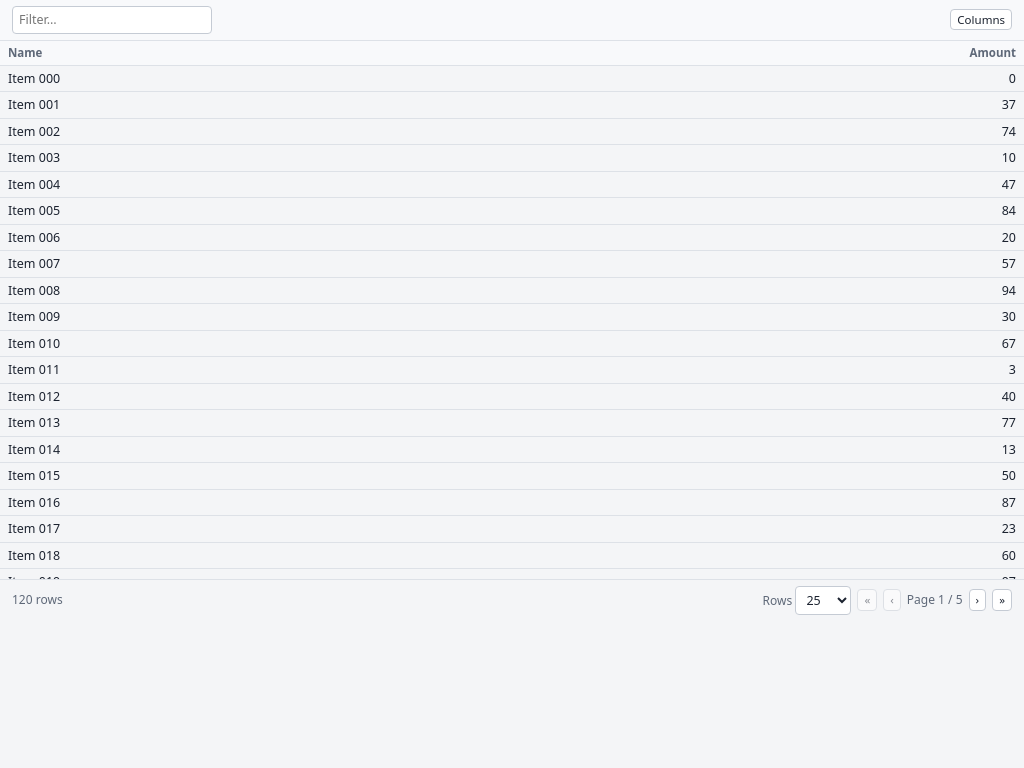
Test: DataTable › paginates, sorts and filters
The image size is (1024, 768).
Check: the text "120 rows" is shown, box [12,592,63,608]
Check: the text "Page 1 / 5" is shown, box [907,592,962,608]
Click the column heading "Amount": (779, 53) [534,40,1023,65]
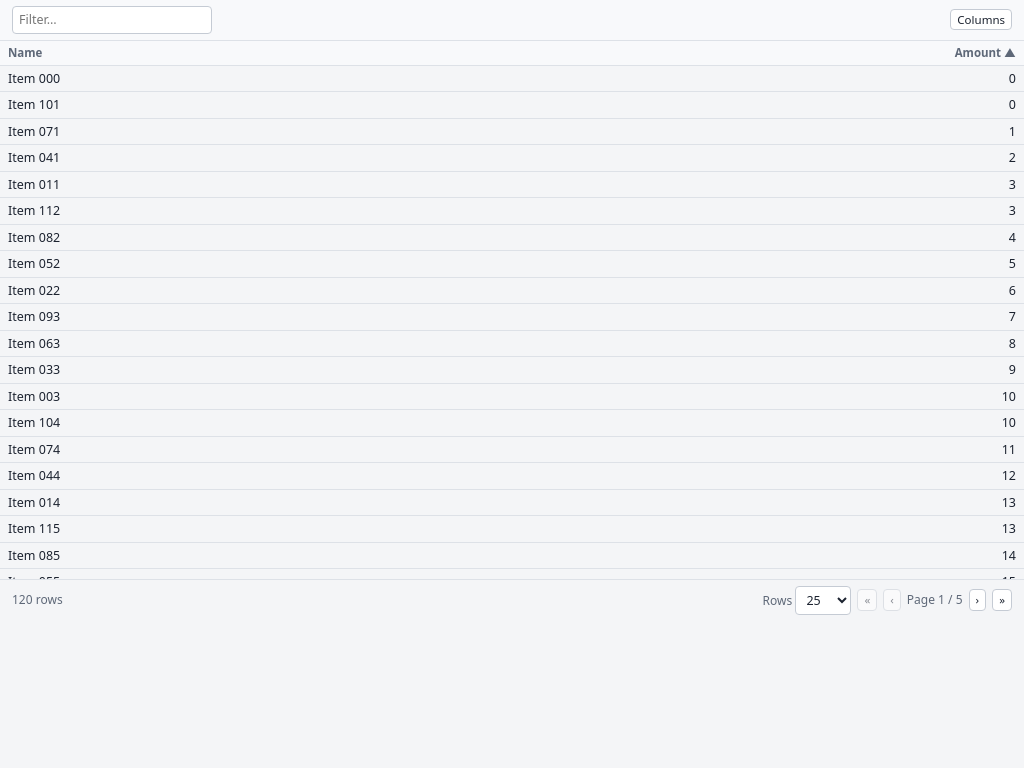
Click the column heading "Amount ▲": (752, 53) [480,40,1023,65]
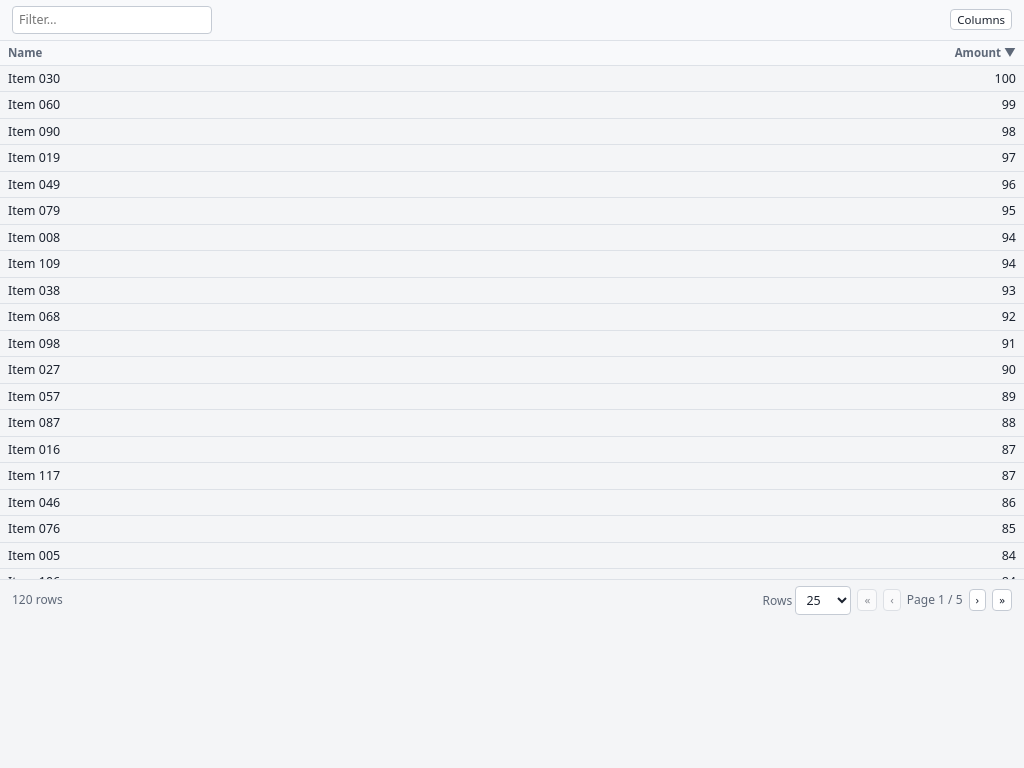
Check: the text "100" is shown, box [480,65,1023,92]
Click the button named "Next page": (977, 600) [969,589,986,611]
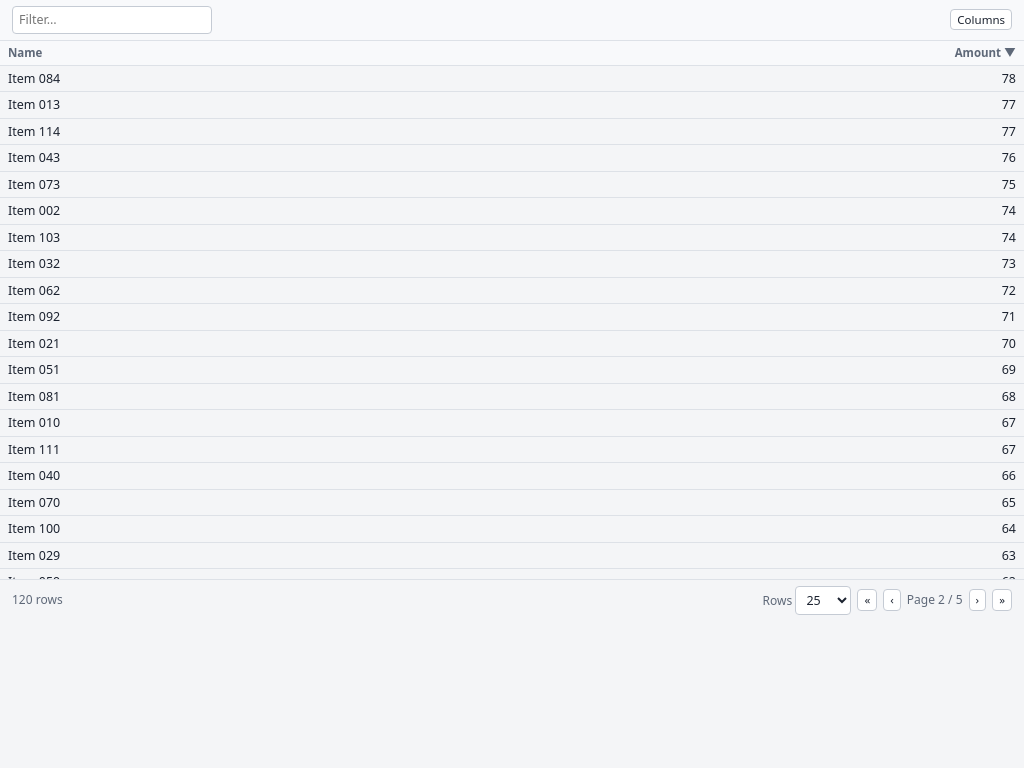
Check: the text "Page 2 / 5" is shown, box [907,592,962,608]
In the field named "Filter table": (112, 20) [12,6,212,34], type "Item 007"
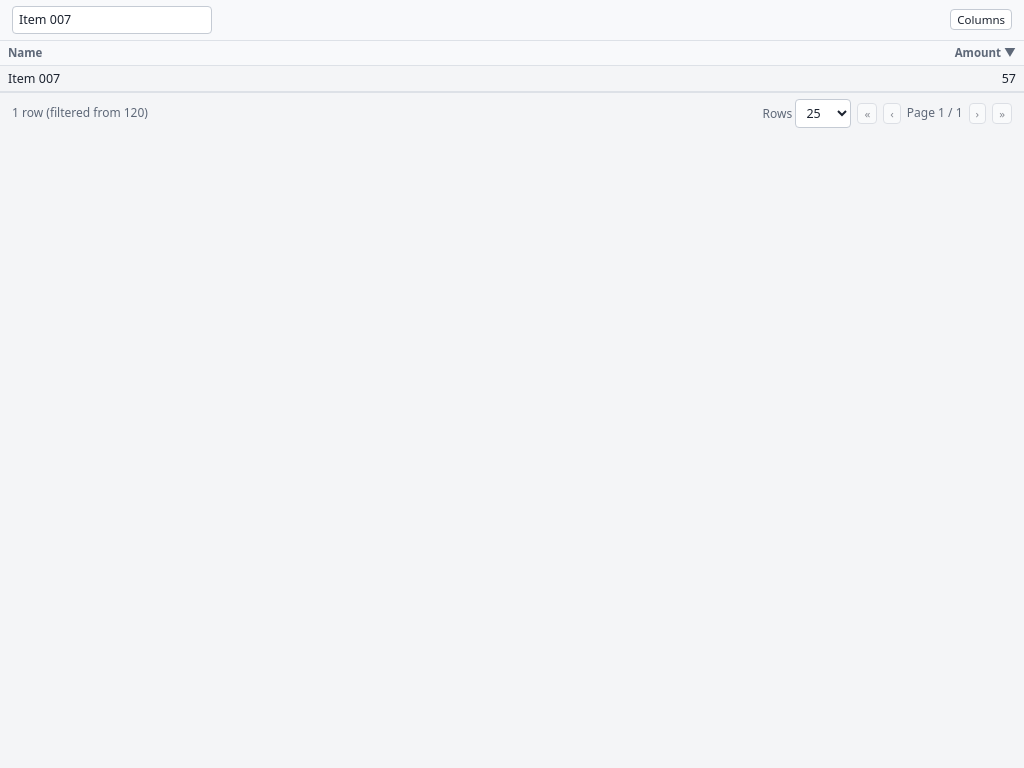
Check: the text "1 row (filtered from 120)" is shown, box [12,105,148,122]
